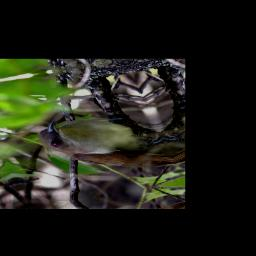Cuckoo: (32, 104, 177, 184)
